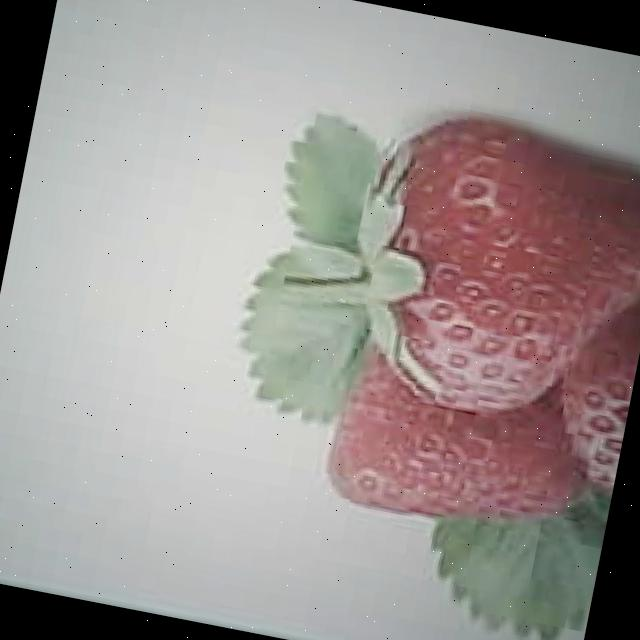strawberry: (341, 109, 640, 441)
